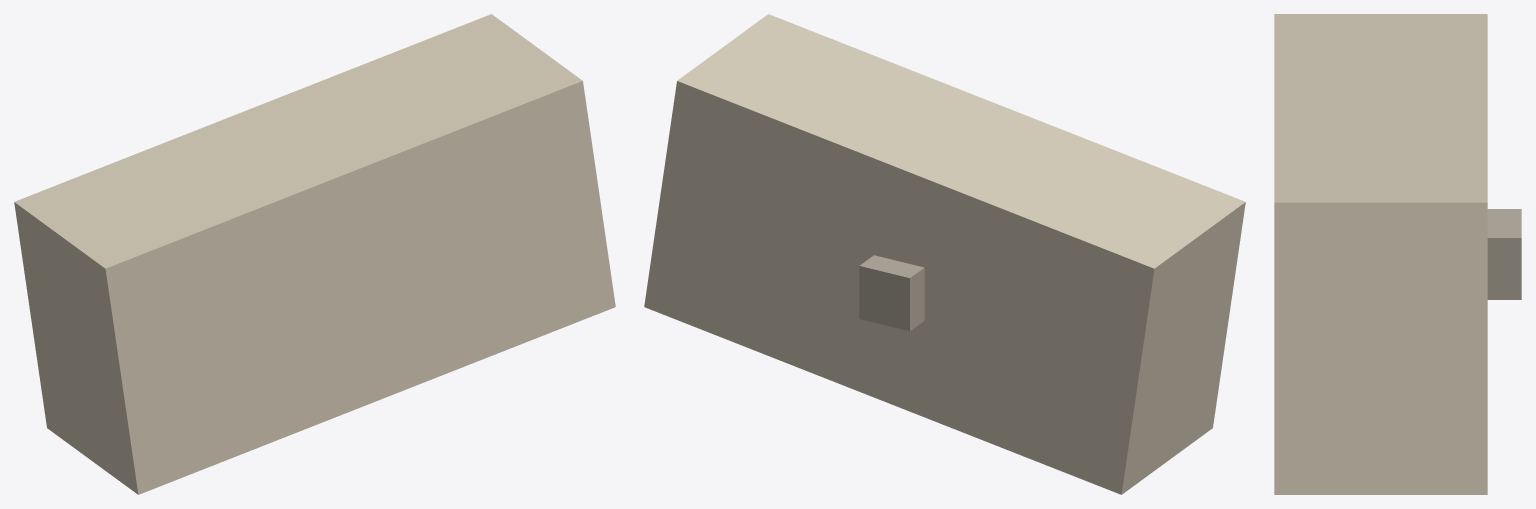
The model's file is historic-palestine-14_31_3557_3254.glb.
The picture shows the model from 3 angles, left to right: view 1: azimuth 30°, elevation 25°; view 2: azimuth 150°, elevation 25°; view 3: azimuth 270°, elevation 25°; orthographic projection. The views are drawn at different scales.
Visible parts, largest first — view 1: Building_; view 2: Building_, Roof access hut; view 3: Building_, Roof access hut.
Boxes of the visible parts, x1=… form: Building_: x1=14, y1=14, x2=615, y2=494; Building_: x1=644, y1=14, x2=1245, y2=494; Roof access hut: x1=859, y1=255, x2=924, y2=331; Building_: x1=1274, y1=14, x2=1487, y2=494; Roof access hut: x1=1487, y1=209, x2=1521, y2=299.
Size of the model in its own units: 24.19 by 13.84 by 8.7.
